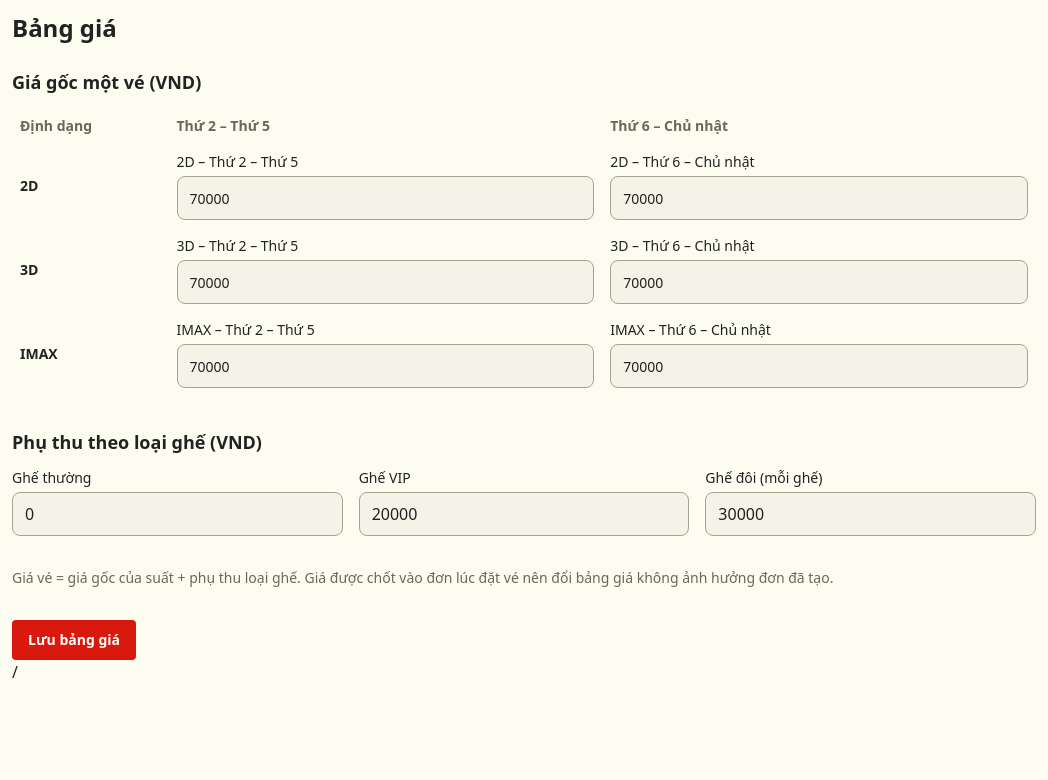
Test: AdminPricingPage (A05) › ô giá không hợp lệ -> báo lỗi, không gửi
Clear the number field labelled "Ghế VIP" at (524, 514), box [359, 492, 689, 536]
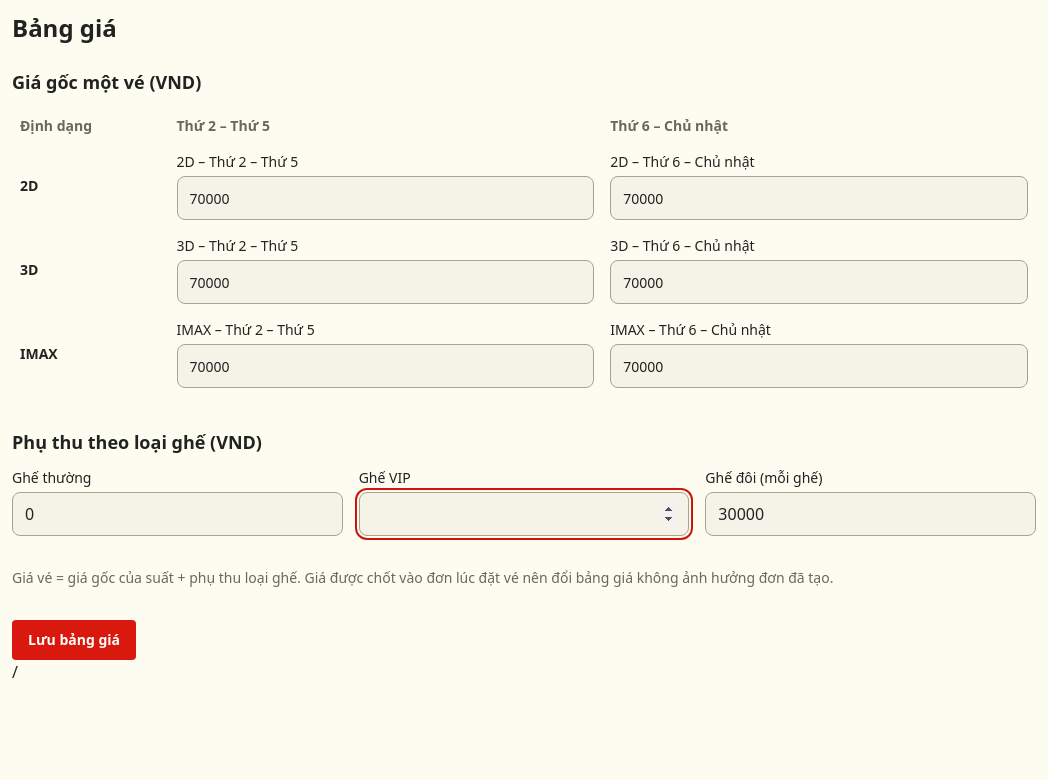
Click the button "Lưu bảng giá" at (74, 640), box [12, 620, 136, 660]
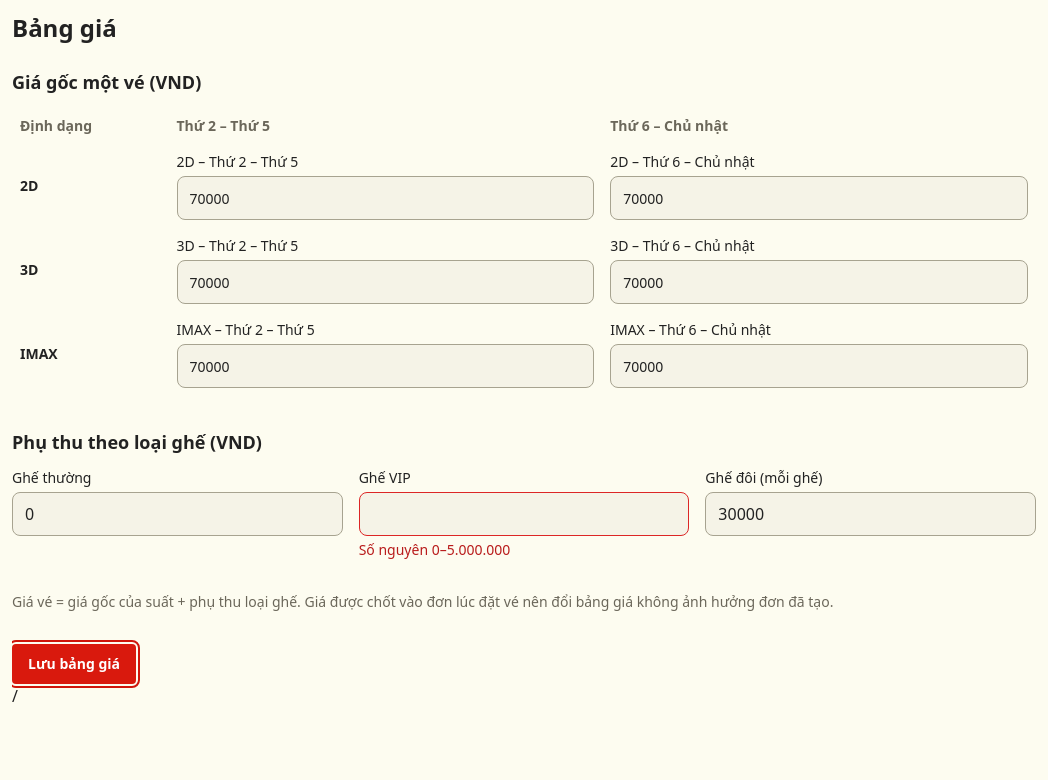
expect the text "Số nguyên 0–5.000.000" is shown: met, box [359, 540, 510, 559]
